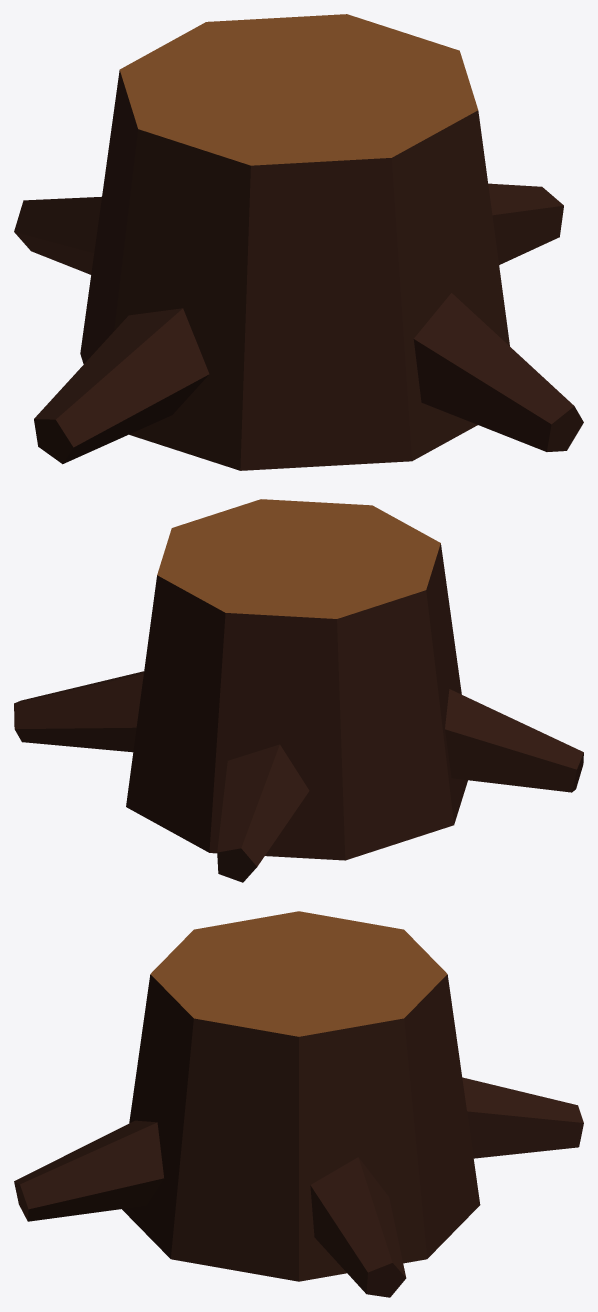
File: Tree_Stump_01.fbx
The picture shows the model from 3 angles, top to bottom: view 1: azimuth 30°, elevation 25°; view 2: azimuth 150°, elevation 25°; view 3: azimuth 270°, elevation 25°; orthographic projection. The views are drawn at different scales.
Visible parts, largest first — view 1: Tree_Stump_01_Mesh; view 2: Tree_Stump_01_Mesh; view 3: Tree_Stump_01_Mesh.
Boxes of the visible parts, <box> form: Tree_Stump_01_Mesh: <box>14,14,583,470</box>; Tree_Stump_01_Mesh: <box>14,499,583,882</box>; Tree_Stump_01_Mesh: <box>14,911,583,1297</box>.
Size of the model in its own units: 1.01 by 0.45 by 1.01.
Materials: 1 (1 with a texture image).
